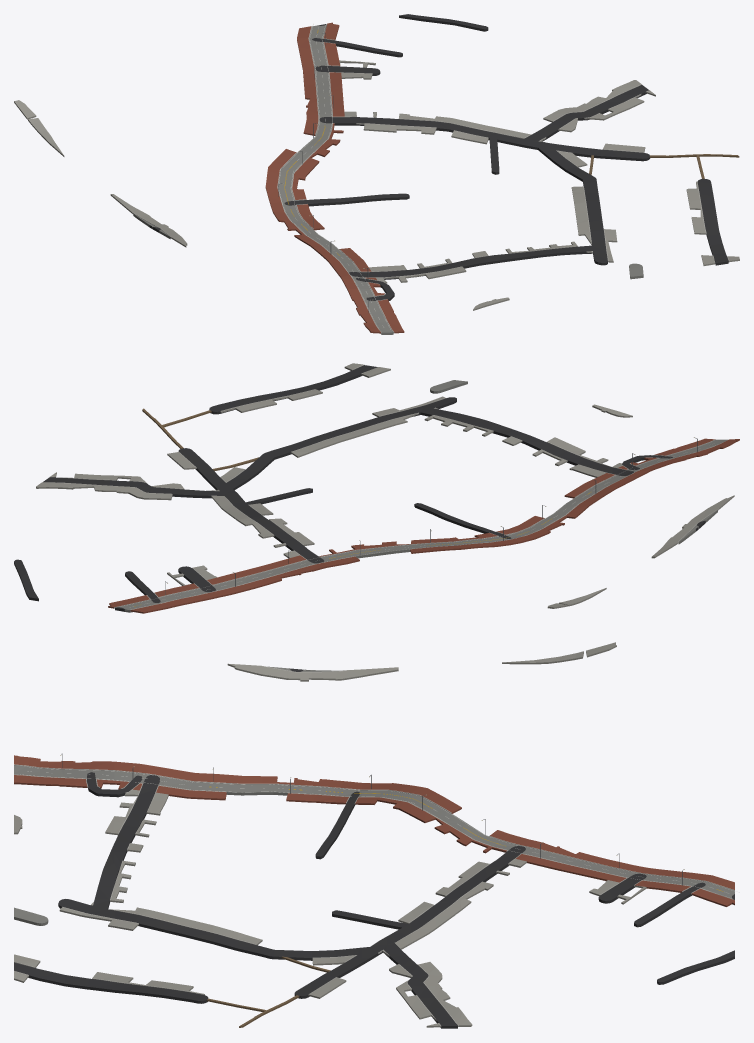
3 views of the same model, one above another, from view 1: azimuth 30°, elevation 25°; view 2: azimuth 150°, elevation 25°; view 3: azimuth 270°, elevation 25° (orthographic). The views are drawn at different scales.
Bounding box in the file's own units: 293 × 39.8 × 294.
